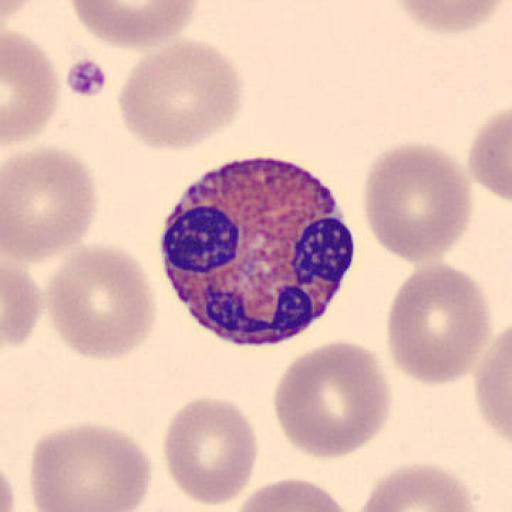RBC: (272, 339, 392, 461), (116, 38, 244, 152), (361, 139, 475, 266), (44, 242, 158, 362), (386, 260, 494, 386), (2, 144, 99, 265), (29, 420, 152, 512), (162, 394, 260, 507), (2, 27, 61, 149), (68, 0, 200, 49), (355, 461, 478, 512), (473, 323, 512, 445), (231, 476, 355, 512), (468, 104, 512, 205), (387, 1, 508, 36), (2, 257, 44, 348), (0, 464, 17, 512)
WBC: (161, 152, 354, 344)
